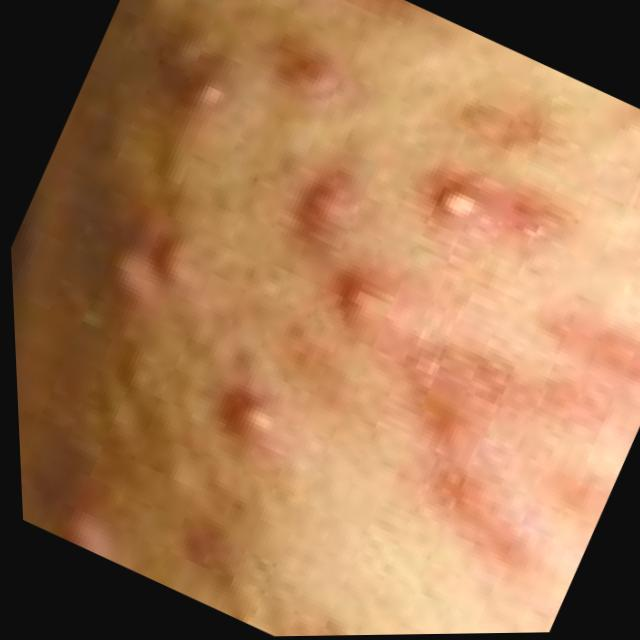cyst: (415, 184, 532, 247), (53, 503, 156, 562), (219, 396, 295, 451), (344, 276, 392, 336), (294, 185, 362, 226), (189, 68, 239, 123), (100, 260, 155, 306), (159, 247, 198, 287)
